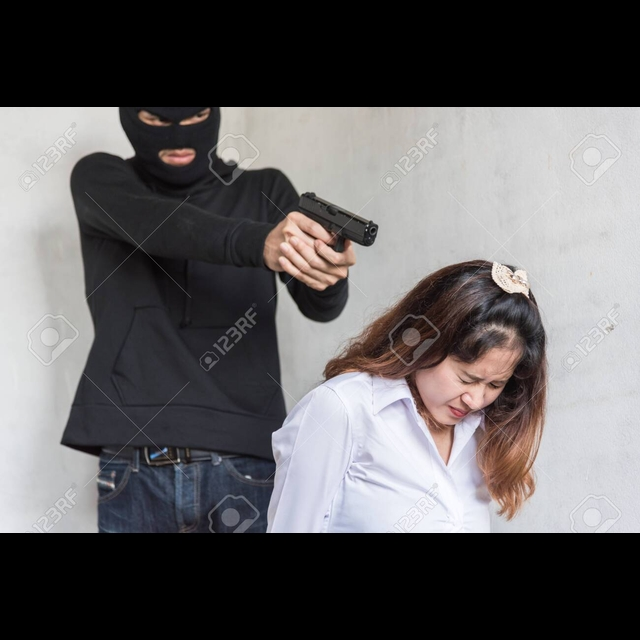SILAH: (284, 188, 383, 285)
